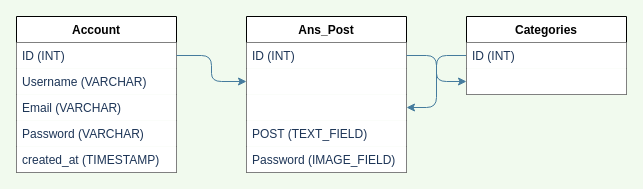
Image size: 643x189. Some labels were removed from this diagram. Each missing label, with the centre of its shape:
Account ID (INT): (326,81)
Ans_Post ID (INT): (546,81)
Categories ID (INT): (326,107)
